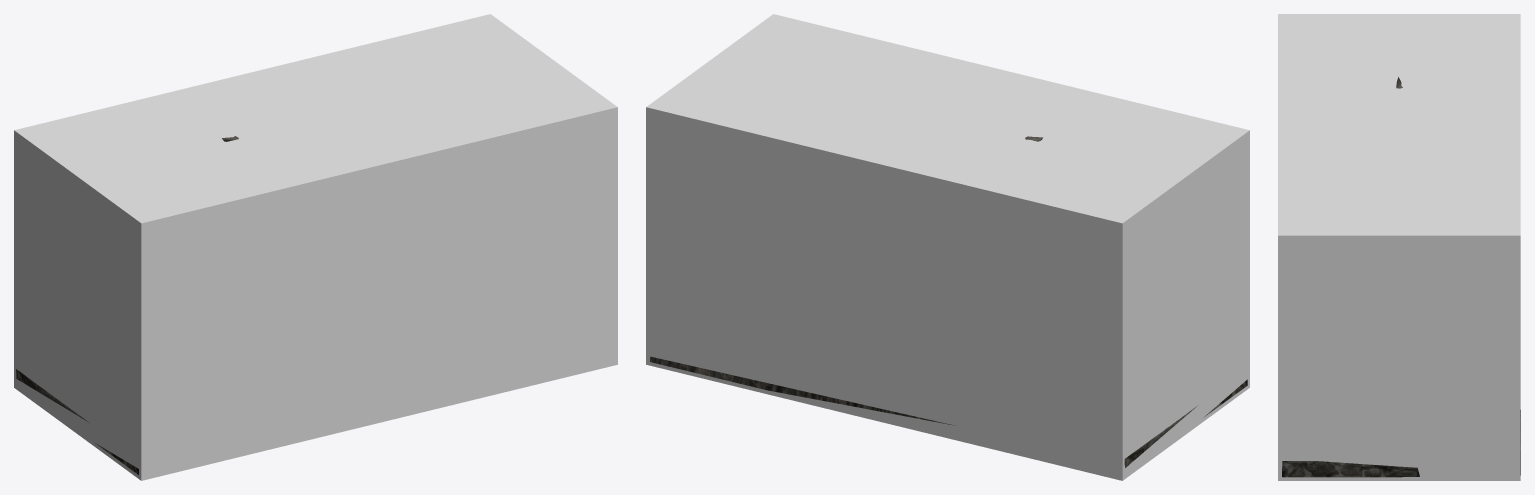
File: sarcophagus_carved_v1_lite.glb
3 renders of one model, left to right at view 1: azimuth 30°, elevation 25°; view 2: azimuth 150°, elevation 25°; view 3: azimuth 270°, elevation 25°, orthographic. The views are drawn at different scales.
Parts seen in each view (by area): view 1: col_sarcophagus, sarcophagus; view 2: col_sarcophagus, sarcophagus; view 3: col_sarcophagus, sarcophagus.
Boxes of the visible parts, bbox=[...] form: col_sarcophagus: bbox=[14, 14, 617, 480]; sarcophagus: bbox=[16, 136, 238, 474]; col_sarcophagus: bbox=[646, 14, 1249, 480]; sarcophagus: bbox=[650, 136, 1247, 467]; col_sarcophagus: bbox=[1278, 14, 1520, 480]; sarcophagus: bbox=[1282, 77, 1520, 477].
Size of the model in its own units: 2.42 by 1.27 by 1.12.
Materials: 2 (2 with a texture image).
